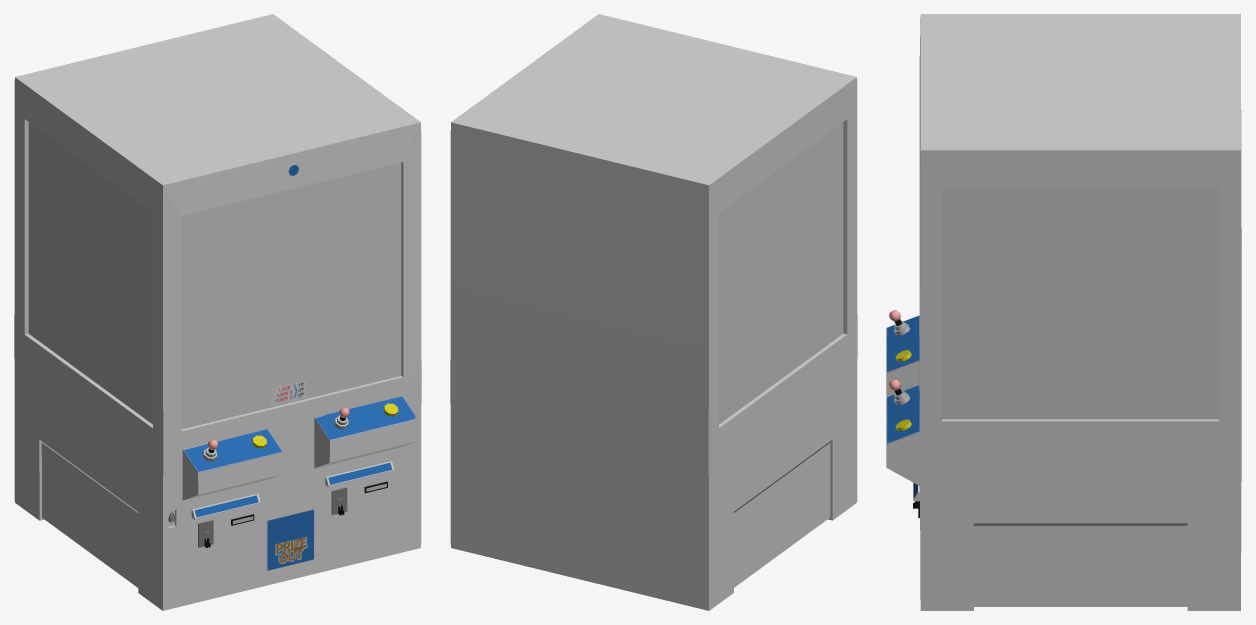
File: LC_3110_Clawmachine_LOD2.FBX
3 renders of one model, left to right at view 1: azimuth 30°, elevation 25°; view 2: azimuth 150°, elevation 25°; view 3: azimuth 270°, elevation 25°, orthographic. The views are drawn at different scales.
Parts seen in each view (by area): view 1: LC_3110_Clawmachine_LOD2; view 2: LC_3110_Clawmachine_LOD2; view 3: LC_3110_Clawmachine_LOD2.
Boxes of the visible parts, box(x1,y1,x2,y2) form: LC_3110_Clawmachine_LOD2: box(14, 14, 421, 610); LC_3110_Clawmachine_LOD2: box(450, 14, 857, 610); LC_3110_Clawmachine_LOD2: box(886, 14, 1241, 610).
Bounding box in the file's own units: 103 × 162 × 114.
